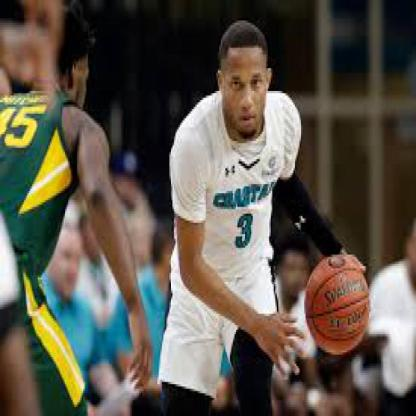basketball: (306, 257, 369, 357)
